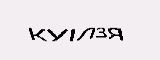А: (108, 10, 135, 35)
Б: (90, 8, 107, 37)
Х: (31, 12, 45, 32)
Ч: (70, 10, 90, 35)
Щ: (46, 10, 71, 33)
